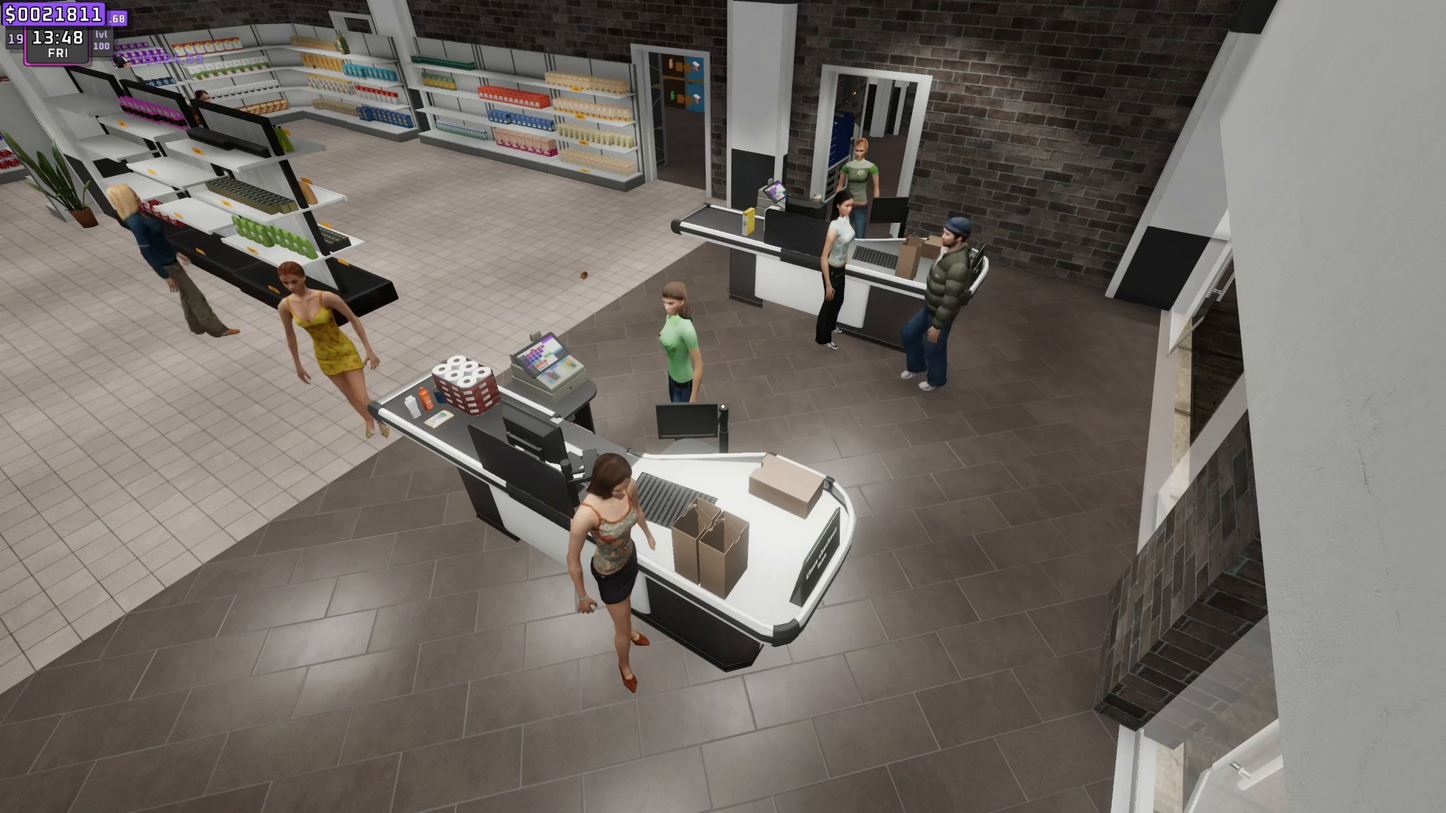Client: (272, 263, 414, 446), (577, 454, 658, 685), (923, 212, 975, 406), (817, 191, 852, 346)
Employee: (653, 283, 713, 402), (844, 134, 878, 207)
